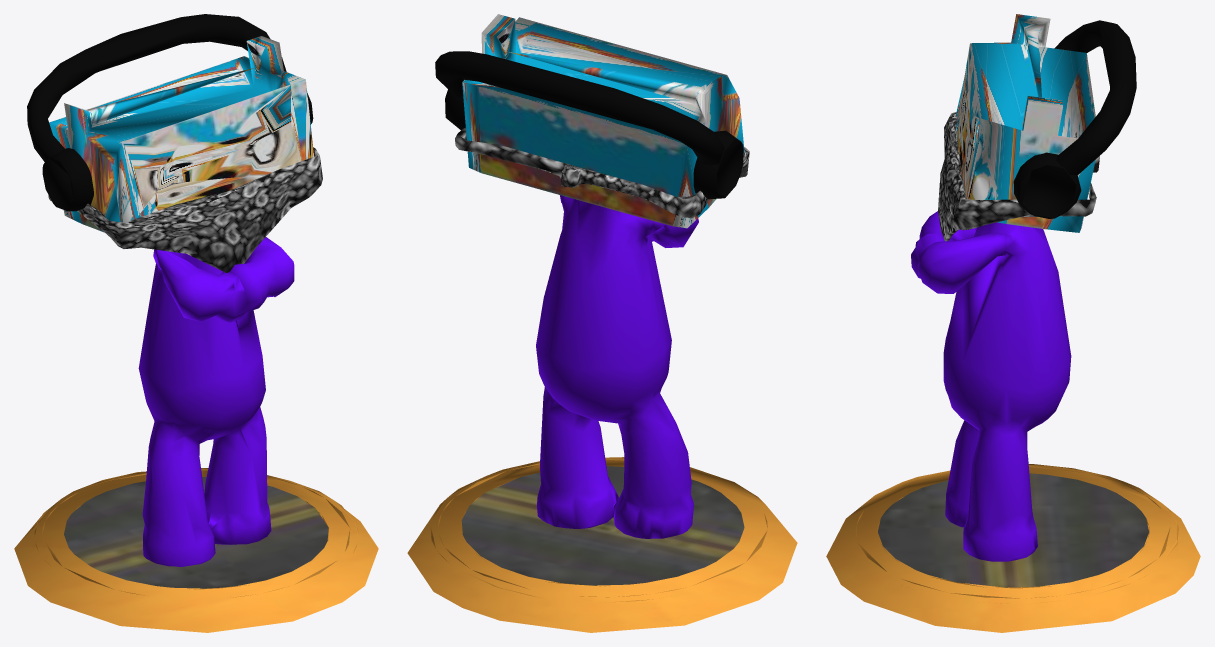
3 renders of one model, left to right at view 1: azimuth 30°, elevation 25°; view 2: azimuth 150°, elevation 25°; view 3: azimuth 270°, elevation 25°, orthographic. The views are drawn at different scales.
Bounding box in the file's own units: 1.44 × 2.13 × 1.45.
6 materials, 4 textured.
